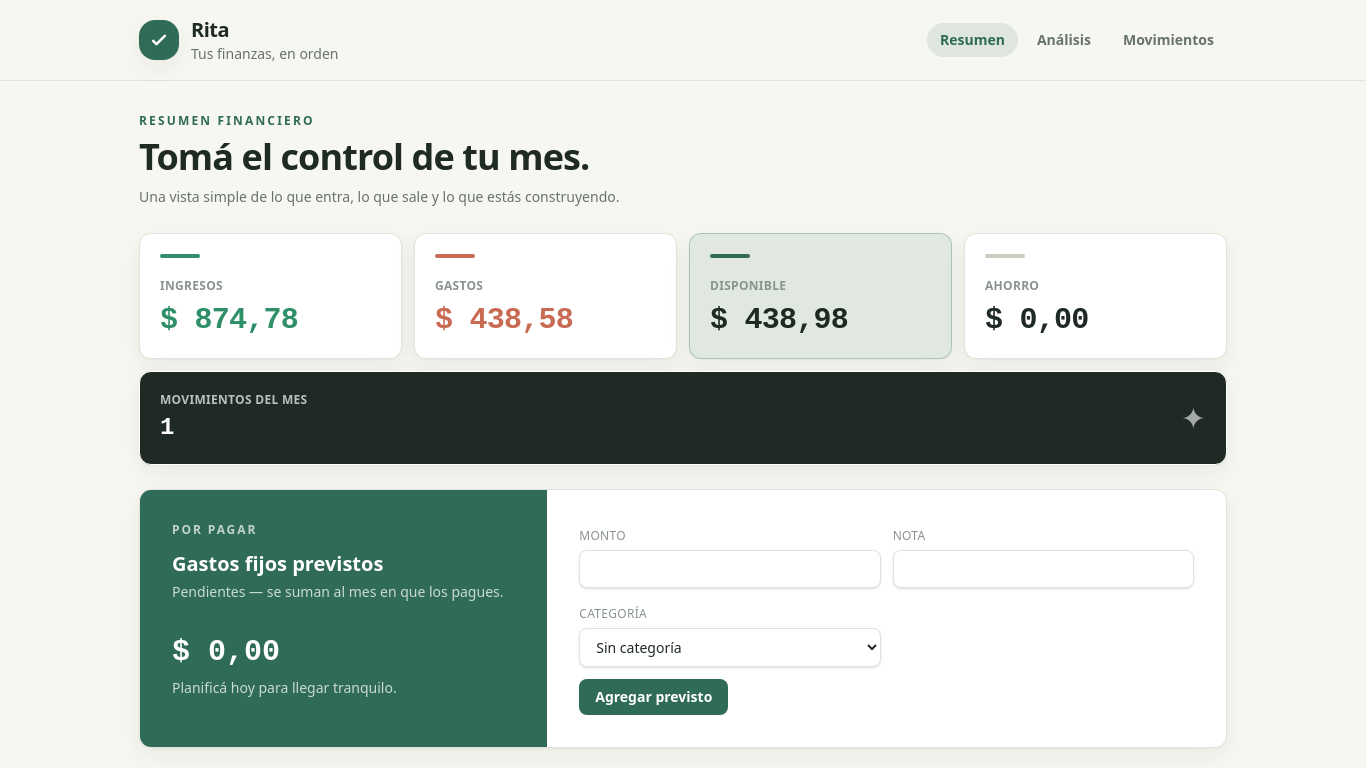
Test case: App › shows the movement list (with its own fetch) when Movimientos is selected
The image size is (1366, 768).
Click the button "Movimientos".
click(1168, 40)  # box [1110, 23, 1227, 57]
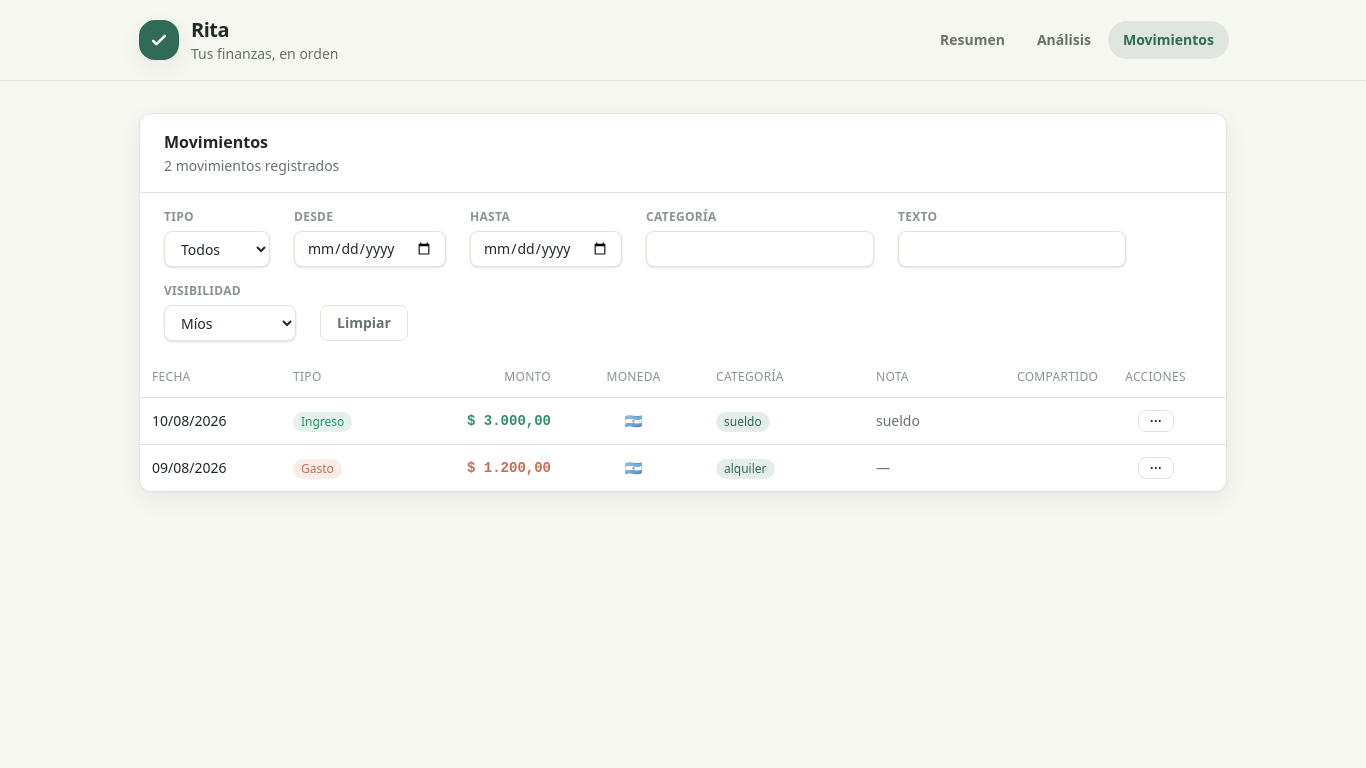
Check: the heading "Movimientos" is shown, box [164, 131, 268, 153]
Check: the table is shown, box [140, 357, 1226, 491]
Check: the heading "Ingresos" is gone
